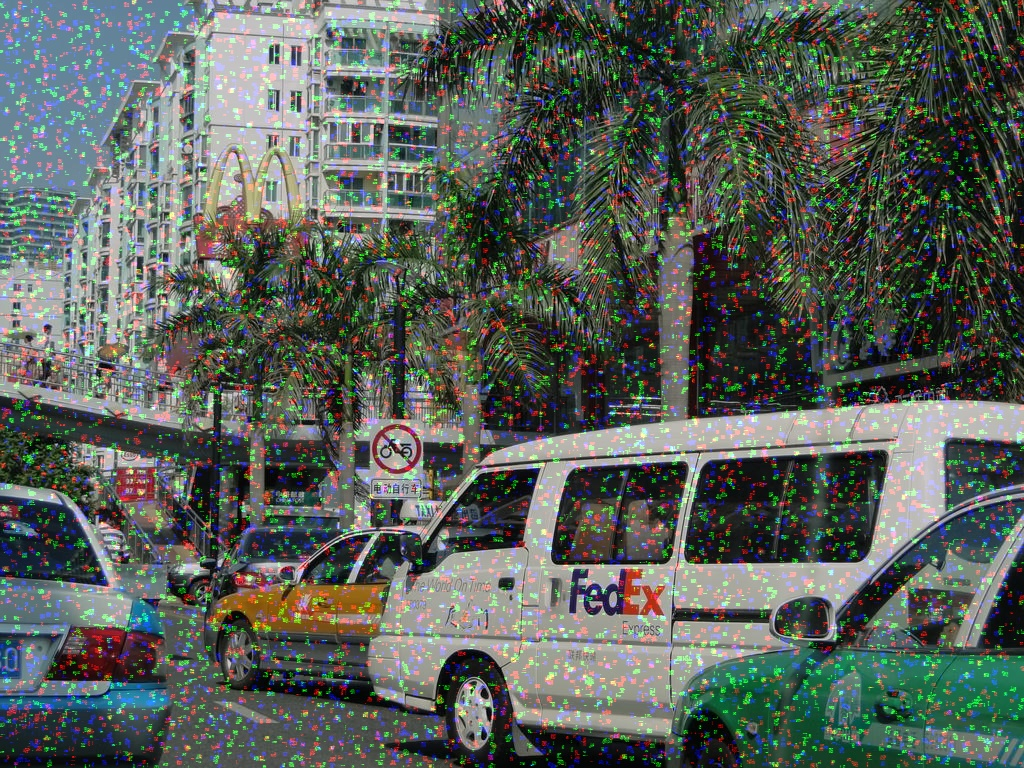Prohibitory Signs: (371, 423, 422, 475)
